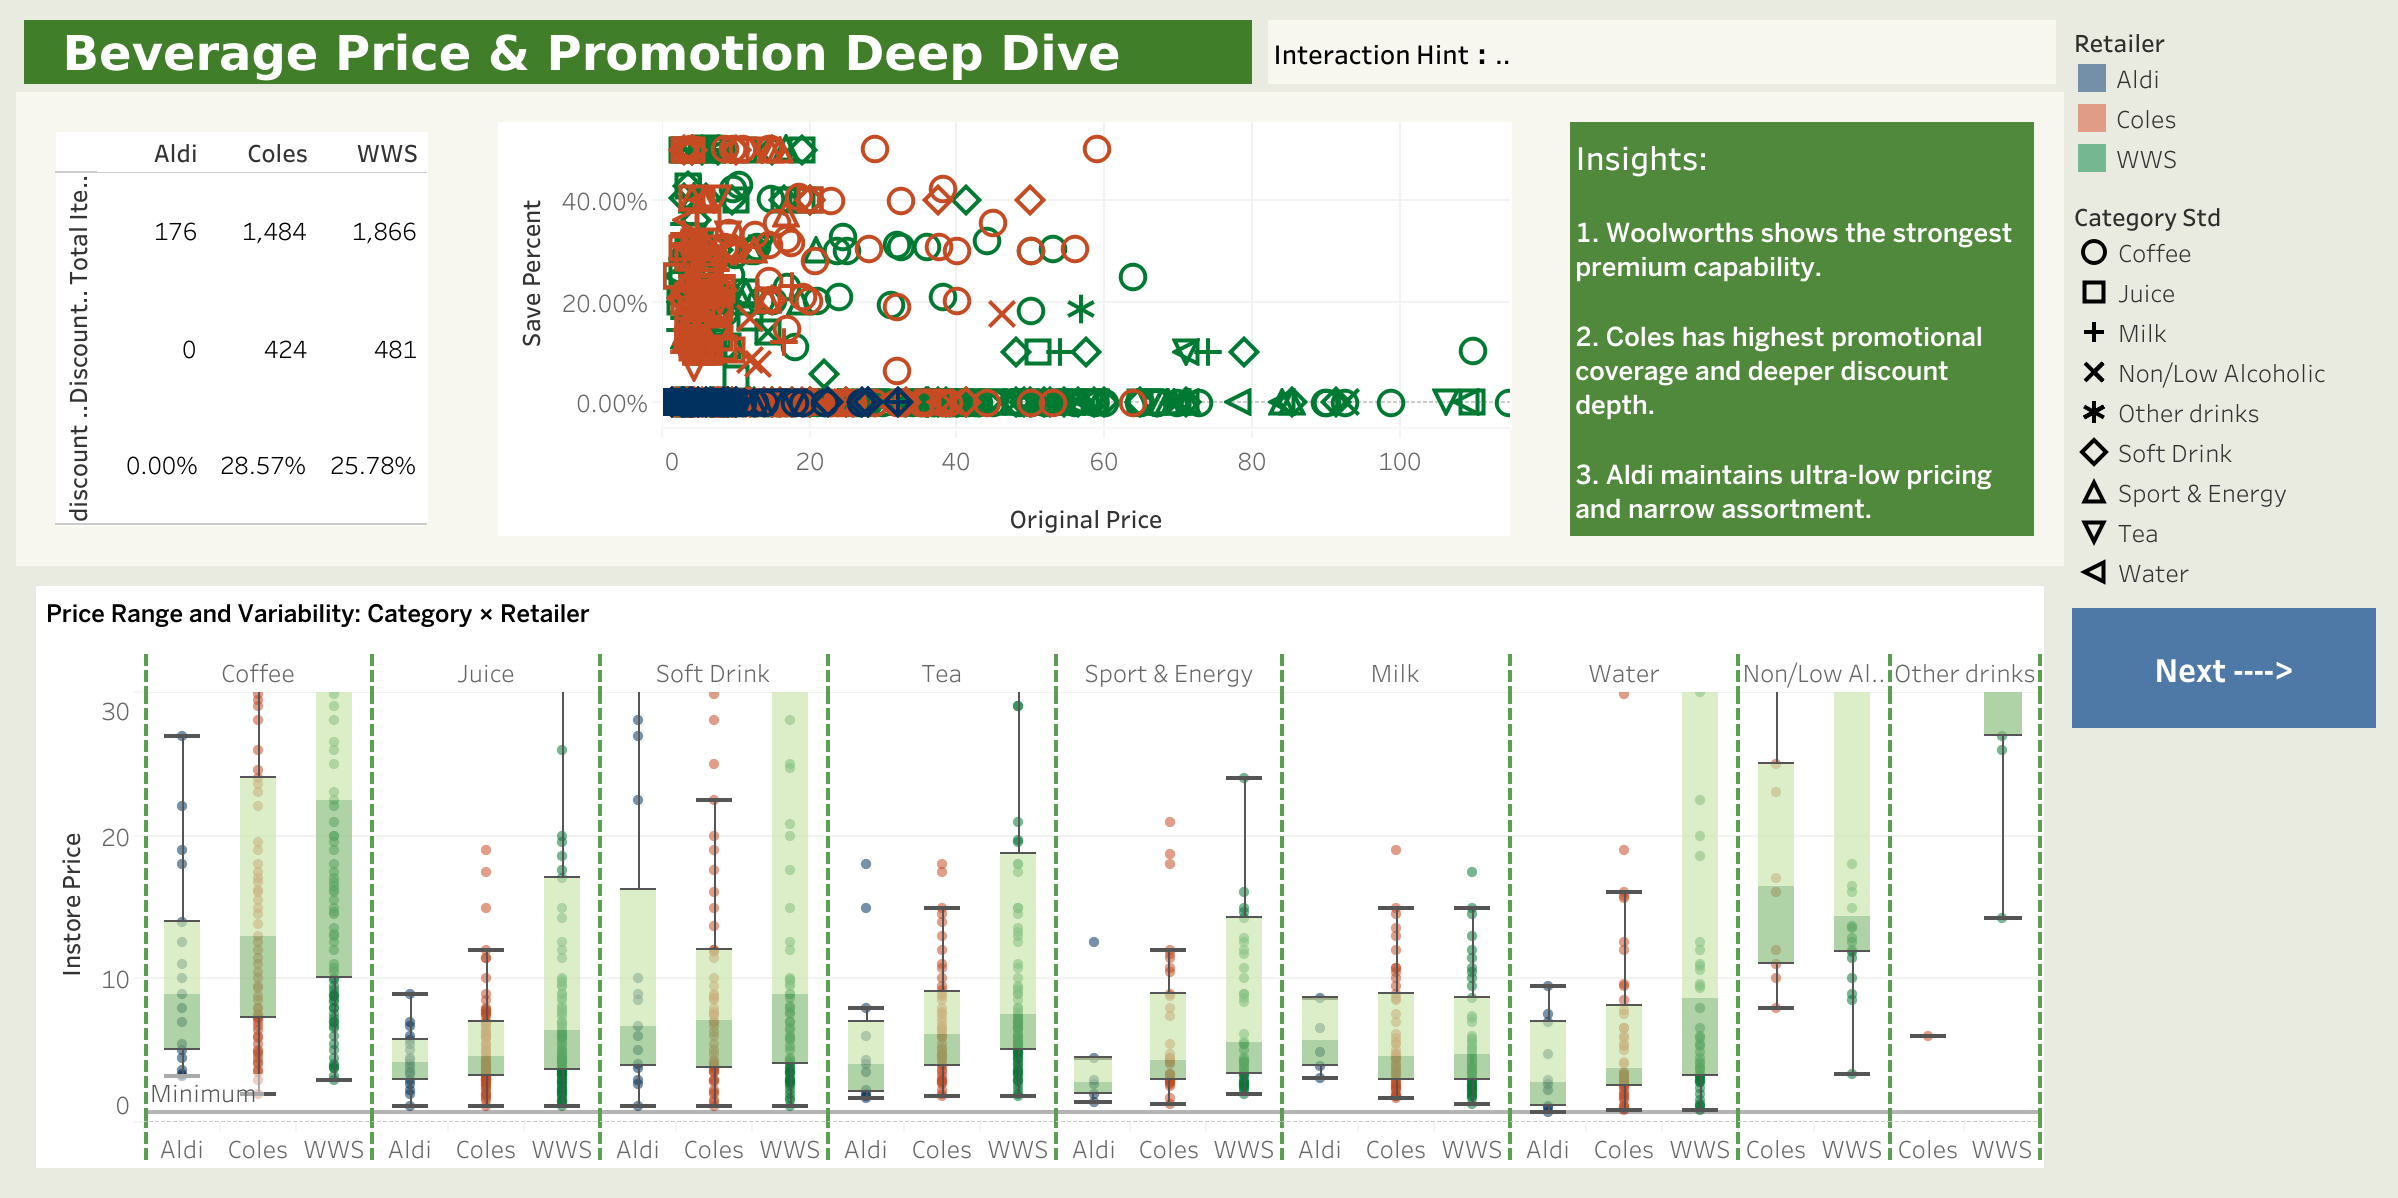

This screenshot's page, from the dashboard's own definition file:
{"tool":"tableau","page":{"name":"Dashboard 2","canvas":[1000,1000],"units":"permille","ordinal":1},"visuals":[{"type":"text","box":[6.7,10,518.3,57.5]},{"type":"text","box":[525,10,335.1,57.5]},{"type":"legend","title":"price range","param":"[federated.0oazp5z1ah4clk1euyd1a10pczjk].[none:retailer:nk]","box":[860,10,133.3,57.5]},{"type":"worksheet","title":"Sheet 7","mark":"Automatic","cols":["retailer"],"box":[6.7,67.5,188.3,462.5]},{"type":"worksheet","title":"Sheet 6","mark":"Automatic","rows":["save_percent"],"cols":["instore_was_price"],"box":[195,67.5,446.7,462.5]},{"type":"text","box":[641.7,67.5,218.3,462.5]},{"type":"legend","title":"Sheet 6","param":"[federated.0oazp5z1ah4clk1euyd1a10pczjk].[none:category_std:nk]","box":[860,67.5,133.3,257.5]},{"type":"filter","title":"Sheet 6","param":"[federated.0oazp5z1ah4clk1euyd1a10pczjk].[none:retailer:nk]","box":[860,325,133.3,135]},{"type":"filter","title":"price range","param":"[federated.0oazp5z1ah4clk1euyd1a10pczjk].[none:category_std:nk]","box":[860,460,133.3,277.5]},{"type":"worksheet","title":"price range","mark":"Circle","rows":["instore_price"],"cols":["category_std","retailer"],"box":[6.7,530,853.3,460]}]}

Visuals, with their boxes on the dashboard's canvas, which has no fixed pixel size, in thousandths of its width and height (x1, y1, x2, y2). These are canvas units, not pixel positions in the 2398x1198 screenshot, which may show the page scaled, cropped or inside an application window:
text: crop(7, 10, 525, 68)
text: crop(525, 10, 860, 68)
"price range" legend: crop(860, 10, 993, 68)
"Sheet 7" worksheet: crop(7, 68, 195, 530)
"Sheet 6" worksheet: crop(195, 68, 642, 530)
text: crop(642, 68, 860, 530)
"Sheet 6" legend: crop(860, 68, 993, 325)
"Sheet 6" filter: crop(860, 325, 993, 460)
"price range" filter: crop(860, 460, 993, 738)
"price range" worksheet (Circle marks): crop(7, 530, 860, 990)
